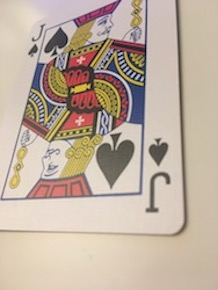JackOfSpades: (1, 1, 194, 244)
